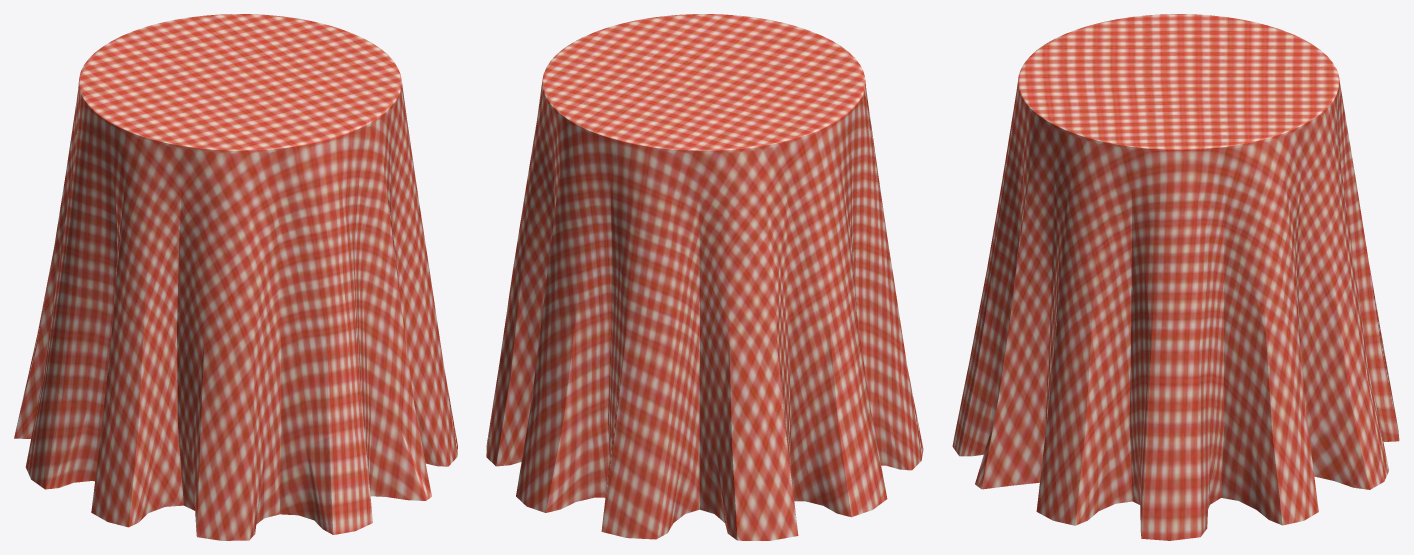
The model's file is sh_blend_swap_cc_0_tablewithtablecloth.glb.
The picture shows the model from 3 angles, left to right: view 1: azimuth 30°, elevation 25°; view 2: azimuth 150°, elevation 25°; view 3: azimuth 270°, elevation 25°; orthographic projection.
Size of the model in its own units: 0.803 by 0.75 by 0.812.
Materials: 2 (1 with a texture image).
